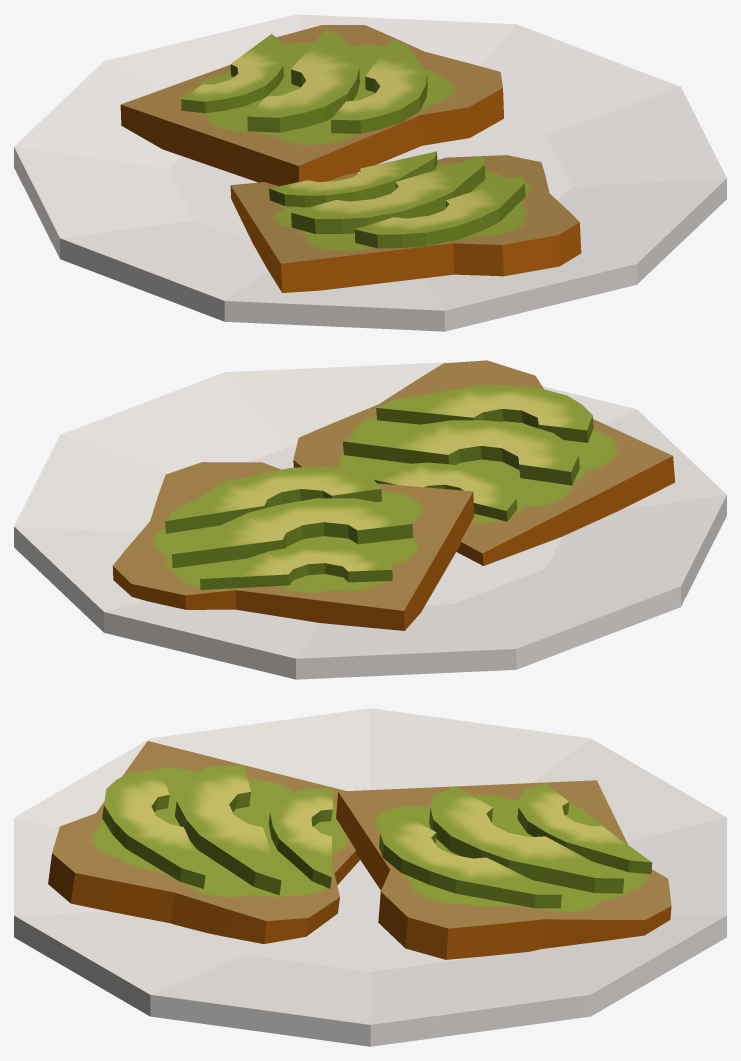
The model's file is toast.fbx.
3 views of the same model, one above another, from view 1: azimuth 30°, elevation 25°; view 2: azimuth 150°, elevation 25°; view 3: azimuth 270°, elevation 25° (orthographic). The views are drawn at different scales.
Visible parts, largest first — view 1: avocado_toast; view 2: avocado_toast; view 3: avocado_toast.
Boxes of the visible parts, <box> form: avocado_toast: <box>14,14,726,331</box>; avocado_toast: <box>14,360,726,679</box>; avocado_toast: <box>14,708,726,1046</box>.
Size of the model in its own units: 2.96 by 0.4008 by 2.82.
